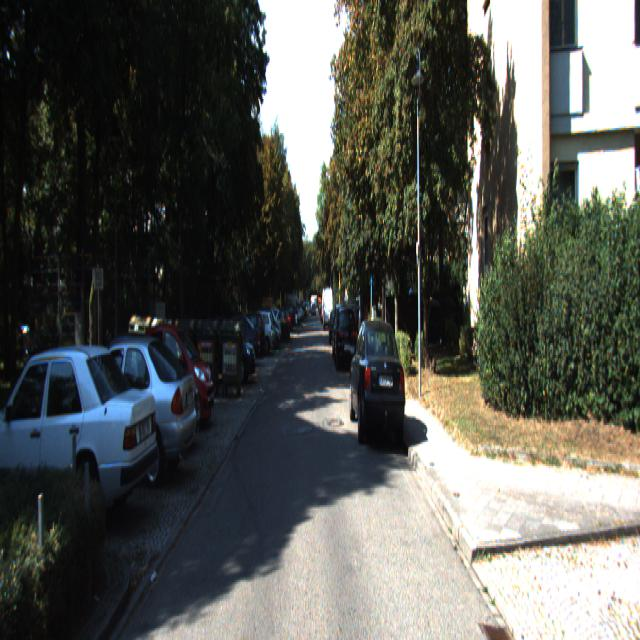Car: (0, 333, 162, 542), (53, 329, 198, 492), (80, 330, 204, 455), (136, 321, 216, 433), (349, 315, 406, 448), (200, 311, 256, 385), (212, 312, 260, 367), (336, 305, 358, 366), (323, 287, 333, 326)
